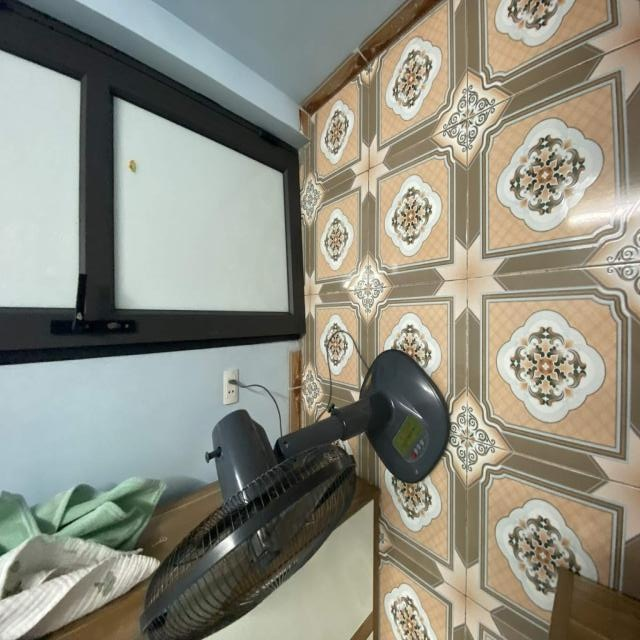outlet: (222, 370, 238, 406)
